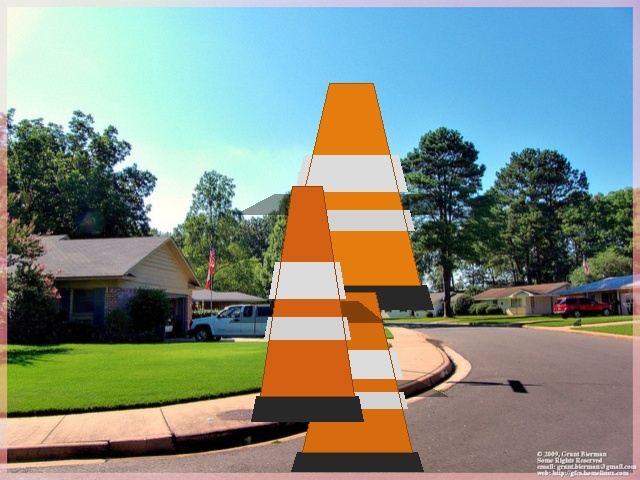traffic-cone: (269, 83, 433, 309), (251, 186, 363, 421), (291, 292, 423, 471)
